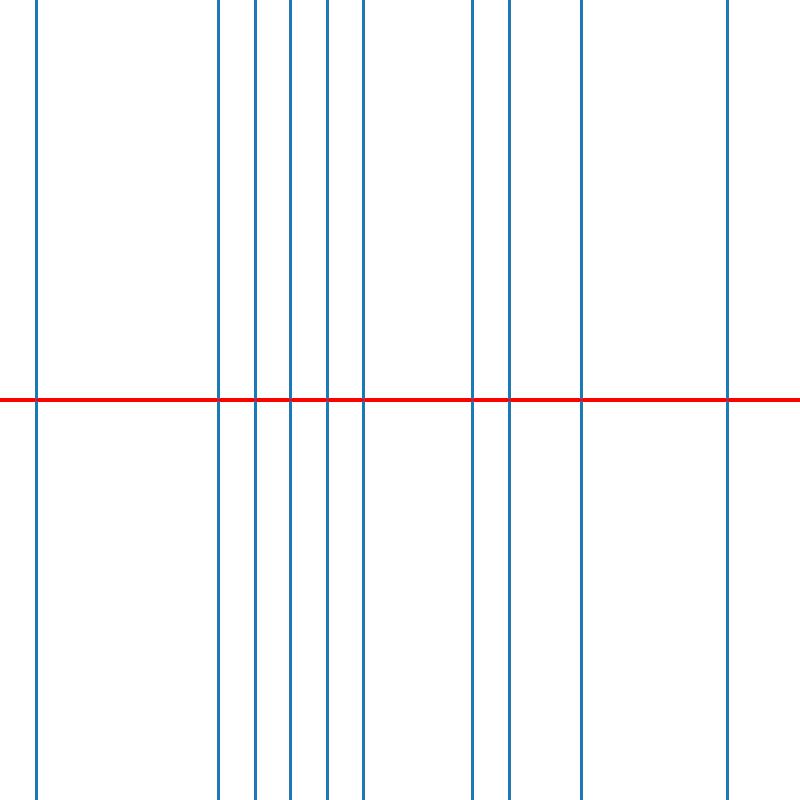root: (250, 396, 258, 404), (32, 396, 40, 404), (578, 396, 585, 404), (723, 396, 730, 404), (214, 396, 221, 404), (469, 396, 476, 404), (505, 396, 512, 404), (323, 396, 330, 404), (360, 396, 367, 404), (287, 396, 294, 404)
